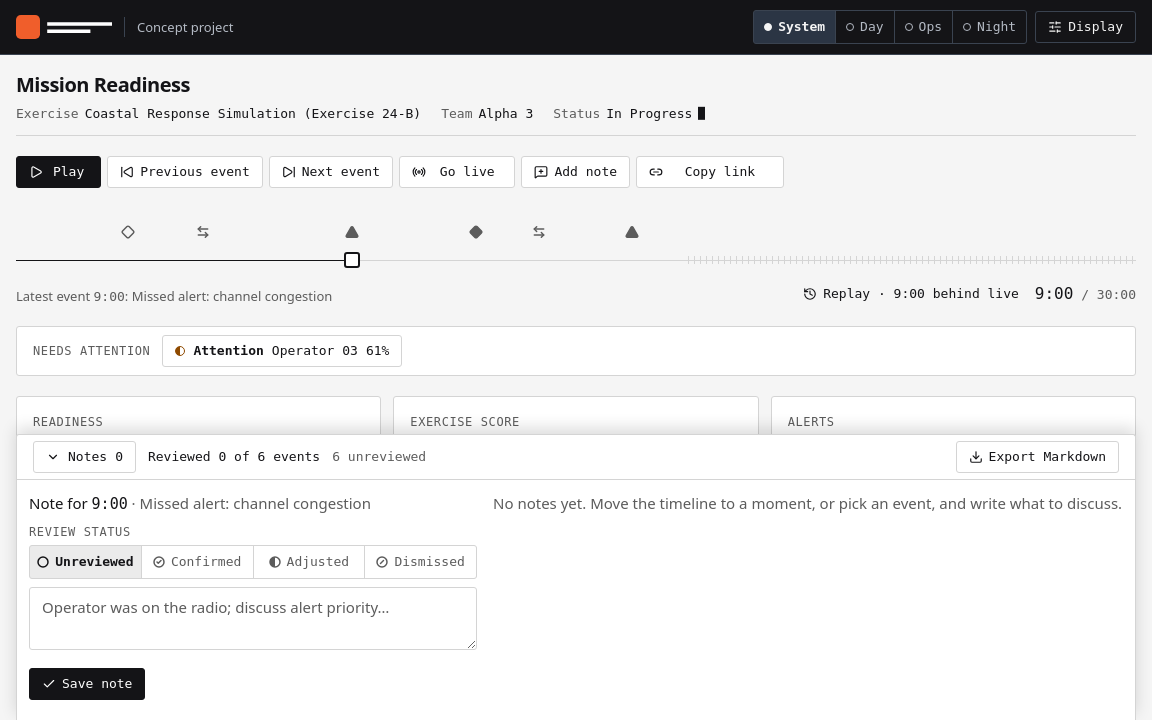
it: composer › attaches the note to the event and shows the count on the event row
Type "Missed it" into the text box named "Note".
click(253, 619); type("Missed it")  # box [29,588,477,650]
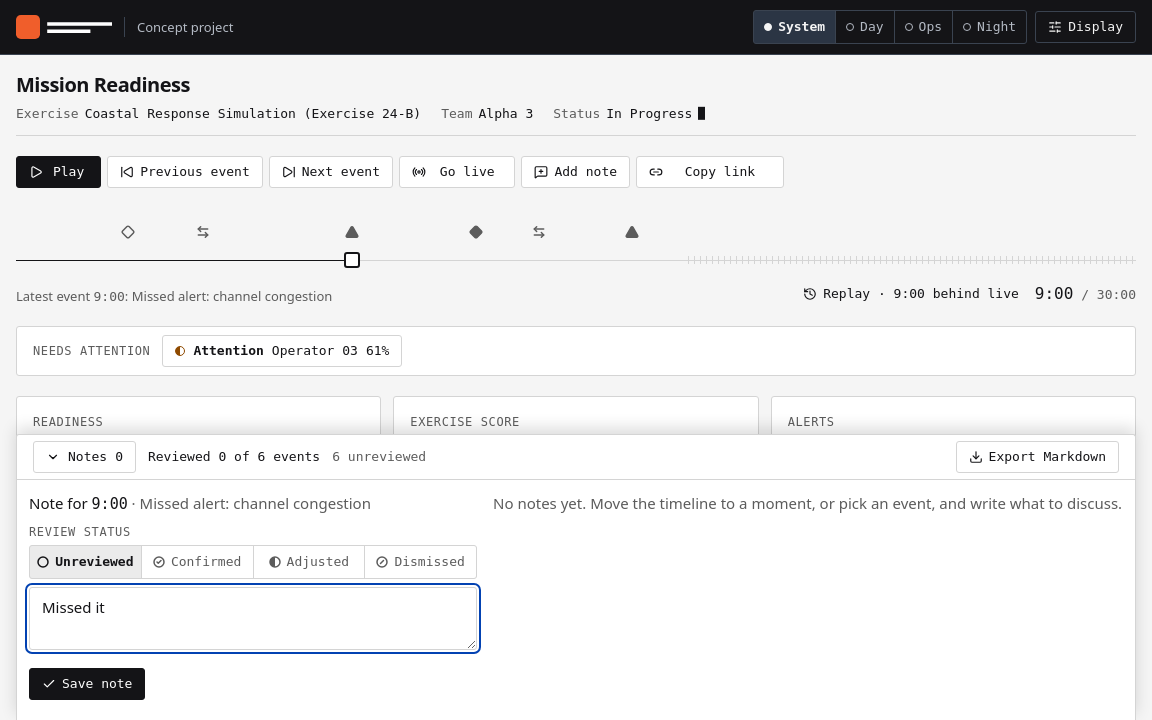
Click the button "Save note".
click(87, 684)  # box [29,668,146,700]
(page scrolled)
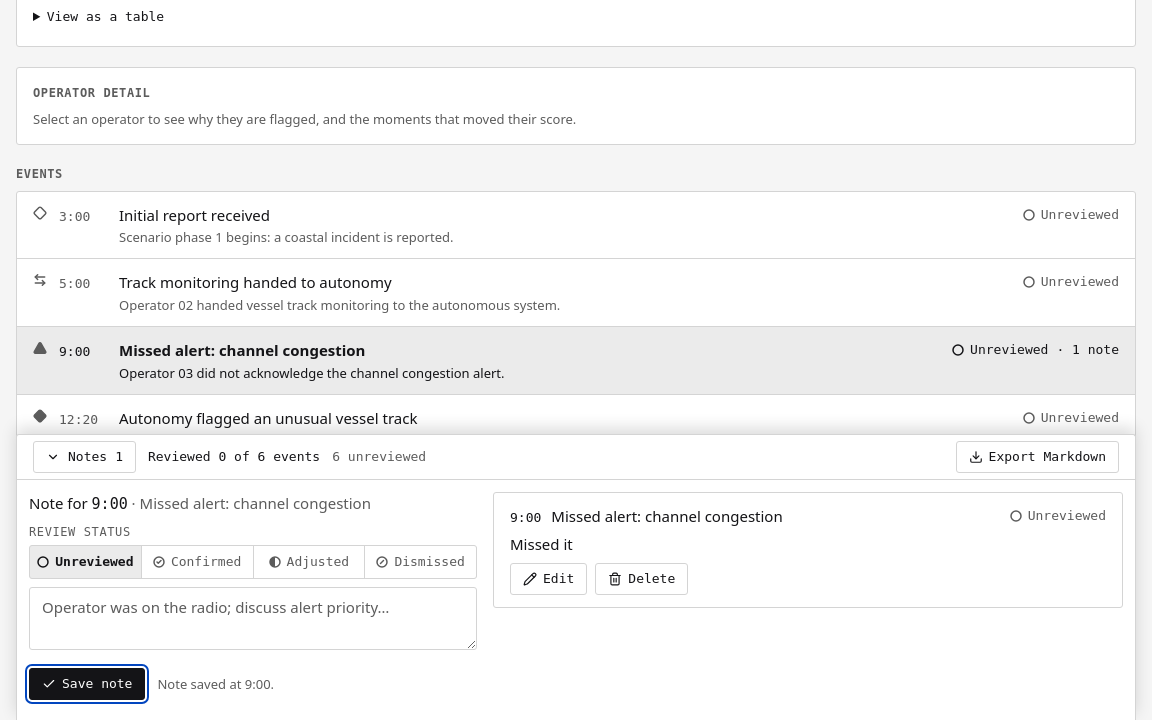
Expected: the 5th list item shows "Missed alert: channel congestion", [510,505,783,529]
Expected: the 5th list item shows "Unreviewed", [1028,508,1106,523]
Expected: the list item "Missed alert: channel congestion" shows "1 note", [17,327,1135,395]
